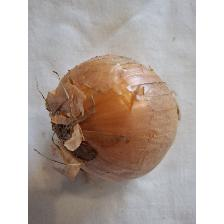Zwiebel: (42, 52, 182, 184)
